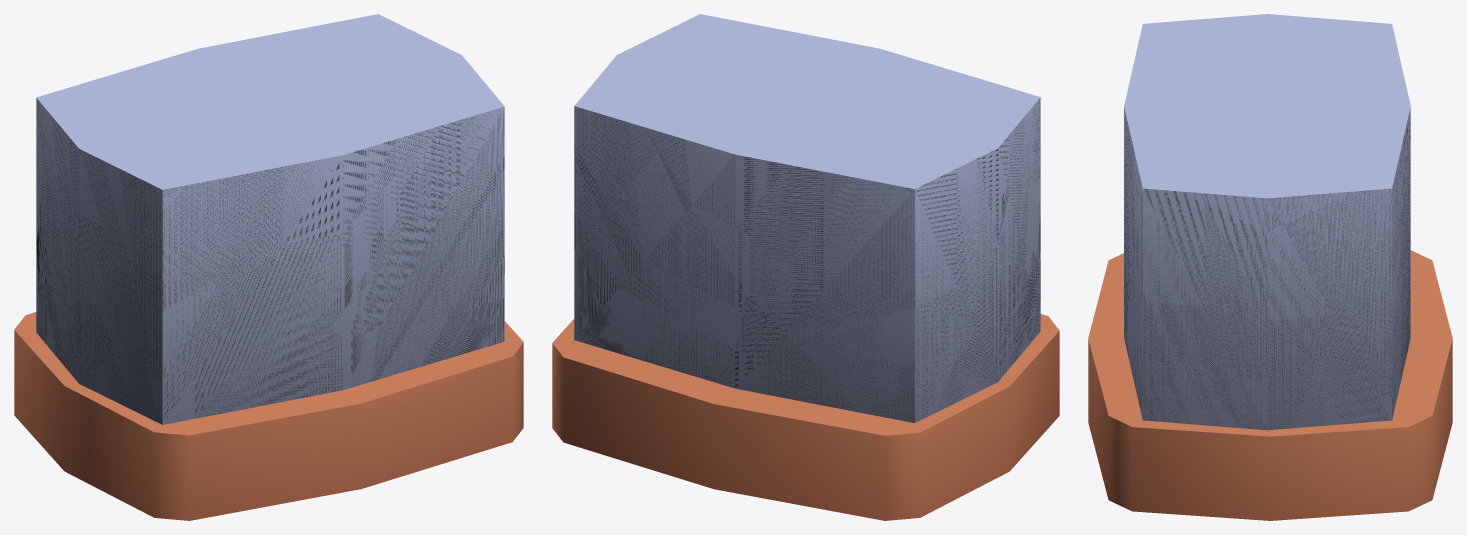
Rendered from torso_lev2.glb.
The picture shows the model from 3 angles, left to right: view 1: azimuth 30°, elevation 25°; view 2: azimuth 150°, elevation 25°; view 3: azimuth 270°, elevation 25°; orthographic projection.
Visible parts, largest first — view 1: torso_lev2; view 2: torso_lev2; view 3: torso_lev2.
Part boxes in pixels (x1,y1,x2,y2): torso_lev2: [14, 14, 523, 520]; torso_lev2: [552, 14, 1059, 520]; torso_lev2: [1088, 14, 1452, 520].
Bounding box in the file's own units: 0.299 × 0.224 × 0.2339.
Materials: 1 (1 with a texture image).
